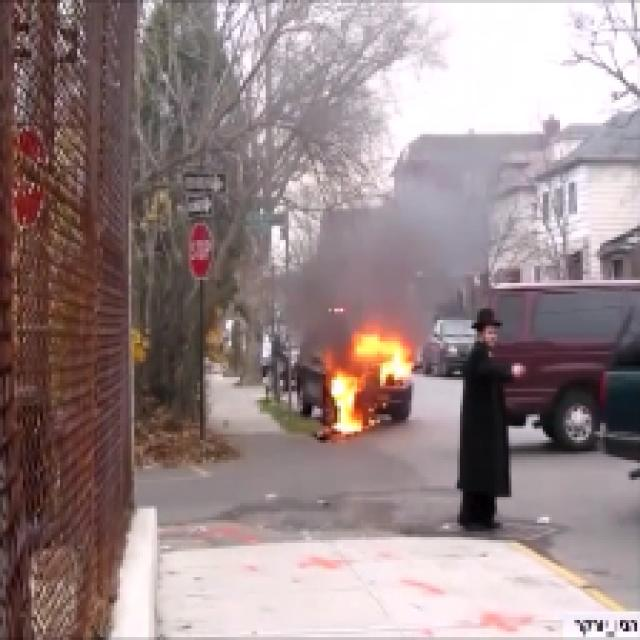fire: (319, 332, 411, 432)
smoke: (318, 200, 461, 320)
